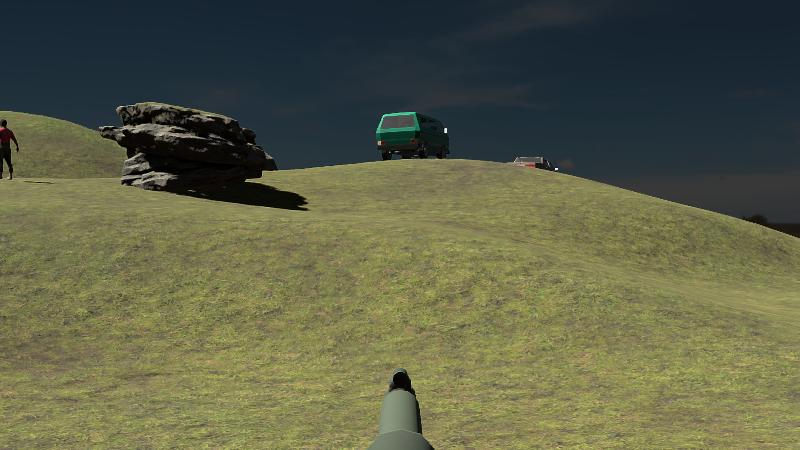Human: (0, 117, 19, 180)
car: (376, 111, 450, 161)
